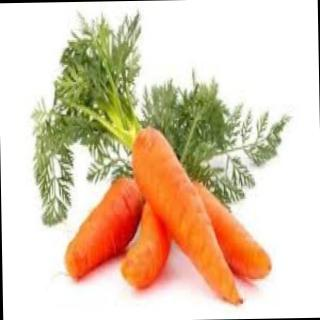Wortel: (132, 127, 244, 306)
